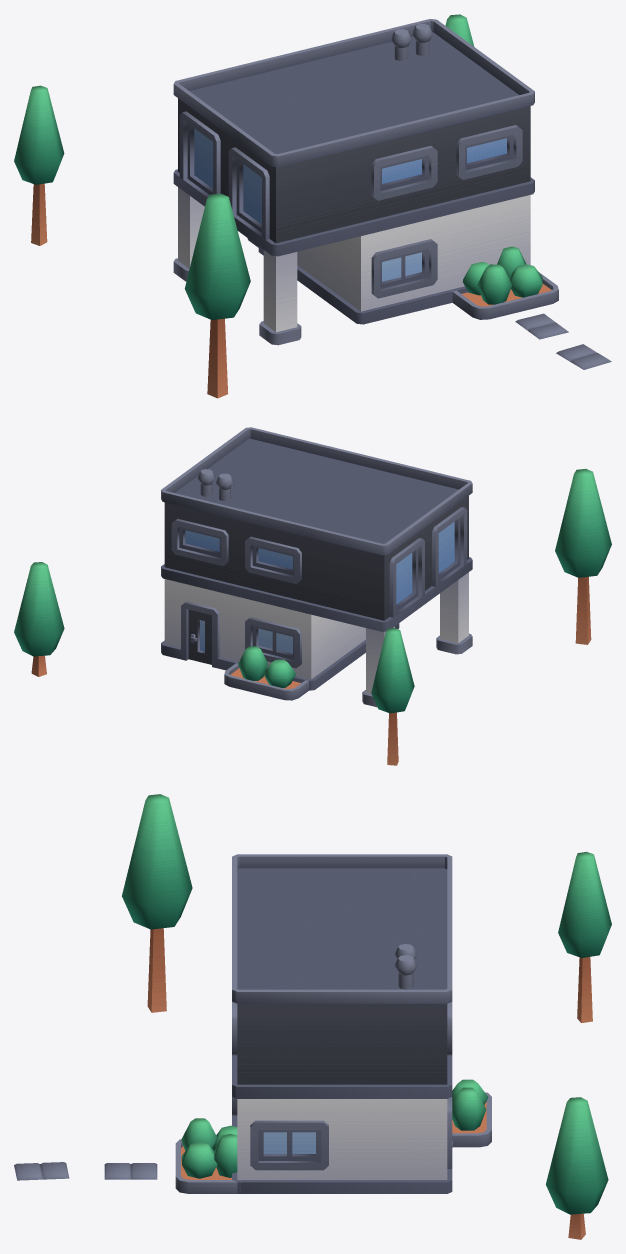
File: house-diorama.glb
3 renders of one model, top to bottom at view 1: azimuth 30°, elevation 25°; view 2: azimuth 150°, elevation 25°; view 3: azimuth 270°, elevation 25°, orthographic. The views are drawn at different scales.
Visible parts, largest first — view 1: building-type-p, tree-large (×2), planter, path-stones-short (×2); view 2: building-type-p, tree-large (×2), tree-small; view 3: building-type-p, tree-large (×2), tree-small, planter, path-stones-short (×2).
Part boxes in pixels (x1,y1,x2,y2): building-type-p: (173, 19, 534, 345); tree-large (×2): (14, 85, 250, 398); planter: (451, 246, 558, 319); path-stones-short (×2): (515, 313, 611, 369); building-type-p: (161, 427, 472, 707); tree-large (×2): (371, 468, 611, 765); tree-small: (14, 562, 64, 676); building-type-p: (232, 854, 491, 1193); tree-large (×2): (122, 794, 611, 1023); tree-small: (546, 1097, 608, 1239); planter: (175, 1118, 241, 1193); path-stones-short (×2): (14, 1162, 157, 1180).
Bounding box in the file's own units: 7.36 × 2.94 × 7.29.
Materials: 7 (7 with a texture image).
